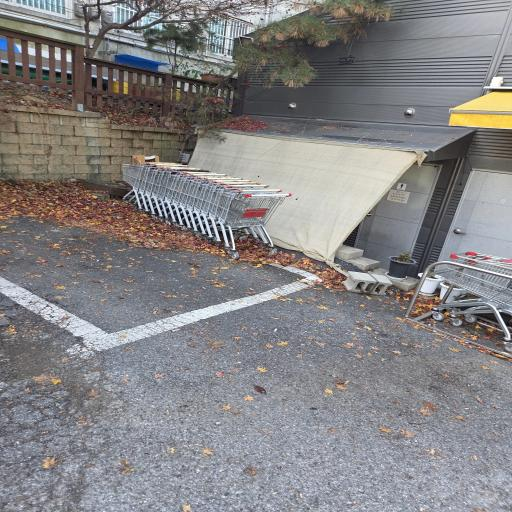combined_cart: (119, 154, 293, 253)
